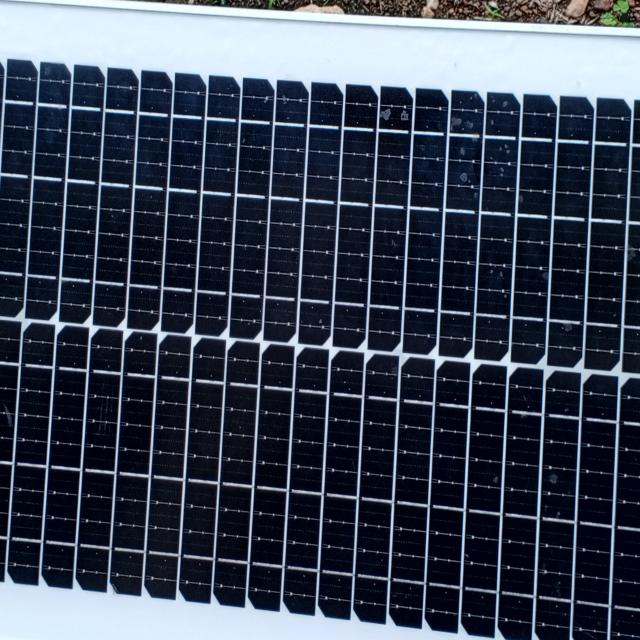Clean: (1, 34, 640, 640)
